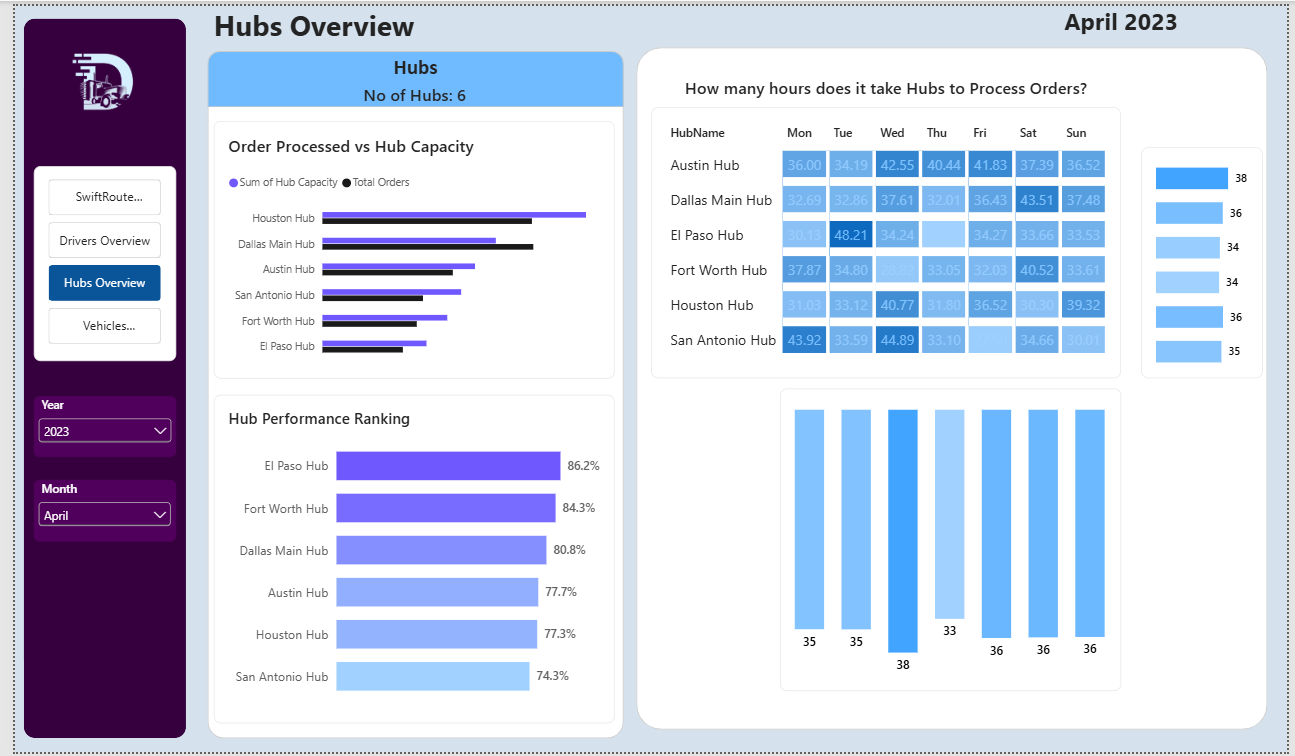

This screenshot's page, from the dashboard's own definition file:
{"tool":"powerbi","page":{"name":"SwiftRoute Logistics Dashboards","canvas":[1450,850],"ordinal":0},"visuals":[{"type":"shape","box":[10,14.2,185,820],"z":0},{"type":"textbox","box":[227.1,0,562.6,58.4],"z":1000},{"type":"cardVisual","fields":{"Data":["Orders.Total Orders","Orders.On Time Delivery Rate","Orders.CSAT %","Orders.Avg Delivery Time(Hrs)"]},"box":[226.5,47,1212.1,135.3],"z":2000},{"type":"slicer","fields":{"Values":["Date Table.Year"]},"box":[21.4,444.4,162.4,69.8],"z":3000},{"type":"slicer","fields":{"Values":["Date Table.Month"]},"box":[21.4,539.8,162,70],"z":4000},{"type":"shape","box":[226.5,222.2,370.3,612.4],"z":5000},{"type":"shape","box":[226.5,222.2,370.3,64.1],"z":6000},{"type":"textbox","box":[262.1,229.3,300.5,59.8],"z":7000},{"type":"cardVisual","fields":{"Data":["Hubs.No of Hubs"]},"box":[659.4,514.2,185.7,52.9],"z":8000},{"type":"clusteredBarChart","title":"Order Processed vs Hub Capacity","fields":{"Category":["Hubs.HubName"],"Y":["Sum(Hubs.Hub Capacity)","Orders.Total Orders"]},"box":[243.6,289.1,336.1,250.7],"z":9000},{"type":"barChart","title":"Hub Performance Ranking","fields":{"Category":["Hubs.HubName"],"Y":["Orders.On Time Delivery Rate"]},"box":[243.6,551.2,336.1,272],"z":10000},{"type":"shape","box":[648,223.6,370.3,611],"z":10500},{"type":"shape","box":[648,225,370.3,64.1],"z":11000},{"type":"shape","box":[1068.2,223.6,370.3,612.4],"z":13750},{"type":"shape","box":[1068.2,225,370.3,64.1],"z":14000},{"type":"textbox","box":[694.7,233.3,300.5,59.8],"z":15000},{"type":"cardVisual","fields":{"Data":["Hubs.No of Hubs"]},"box":[320.5,254.9,185.2,31.3],"z":16000},{"type":"cardVisual","fields":{"Data":["Drivers.No of Drivers"]},"box":[752,257.8,185.2,32.8],"z":16001},{"type":"scatterChart","title":"Experience vs Ratings","fields":{"Size":["Sum(Drivers.Experience Years)"],"X":["Drivers.Experience Years"],"Y":["Drivers.Performance Rating"]},"box":[648,289.1,370.3,264.9],"z":16002},{"type":"barChart","fields":{"Category":["Orders.Driver Name"],"Y":["Orders.Delayed Delivery Rate"]},"box":[648,566.9,370.3,269.2],"z":16003},{"type":"textbox","box":[1136,230.7,253.3,56],"z":16004},{"type":"cardVisual","fields":{"Data":["Vehicles.No of Vehicles"]},"box":[1161.3,253.3,185.2,32.8],"z":16005},{"type":"donutChart","title":"Active Vehicles","fields":{"Category":["Vehicles.Vehicle Status"],"Y":["CountNonNull(Vehicles.Vehicle ID)"]},"box":[1072.5,293.4,360.3,273.5],"z":16006},{"type":"barChart","fields":{"Category":["Vehicles.Vehicle Model"],"Y":["Orders.Total Orders"]},"box":[1068.2,581.1,370.3,253.5],"z":16007},{"type":"image","box":[35.6,47,131,84],"z":16008},{"type":"cardVisual","fields":{"Data":["Orders.Year Month Title"]},"box":[1170.8,12.8,185.2,32.8],"z":16009}]}

Visuals, with their boxes in screenshot pixels (x1, y1, x2, y2), scaled from the page's 1450x850 canvas onto the 1295x756 screenshot:
shape: detection(9, 13, 174, 742)
textbox: detection(203, 0, 705, 52)
cardVisual - Orders.Total Orders x Orders.On Time Delivery Rate: detection(202, 42, 1285, 162)
slicer - Date Table.Year: detection(19, 395, 164, 457)
slicer - Date Table.Month: detection(19, 480, 164, 542)
shape: detection(202, 198, 533, 742)
shape: detection(202, 198, 533, 255)
textbox: detection(234, 204, 502, 257)
cardVisual - Hubs.No of Hubs: detection(589, 457, 755, 504)
"Order Processed vs Hub Capacity" clusteredBarChart: detection(218, 257, 518, 480)
"Hub Performance Ranking" barChart: detection(218, 490, 518, 732)
shape: detection(579, 199, 909, 742)
shape: detection(579, 200, 909, 257)
shape: detection(954, 199, 1285, 744)
shape: detection(954, 200, 1285, 257)
textbox: detection(620, 207, 889, 261)
cardVisual - Hubs.No of Hubs: detection(286, 227, 452, 255)
cardVisual - Drivers.No of Drivers: detection(672, 229, 837, 258)
"Experience vs Ratings" scatterChart: detection(579, 257, 909, 493)
barChart - Orders.Driver Name x Orders.Delayed Delivery Rate: detection(579, 504, 909, 744)
textbox: detection(1015, 205, 1241, 255)
cardVisual - Vehicles.No of Vehicles: detection(1037, 225, 1203, 254)
"Active Vehicles" donutChart: detection(958, 261, 1280, 504)
barChart - Vehicles.Vehicle Model x Orders.Total Orders: detection(954, 517, 1285, 742)
image: detection(32, 42, 149, 117)
cardVisual - Orders.Year Month Title: detection(1046, 11, 1211, 41)
